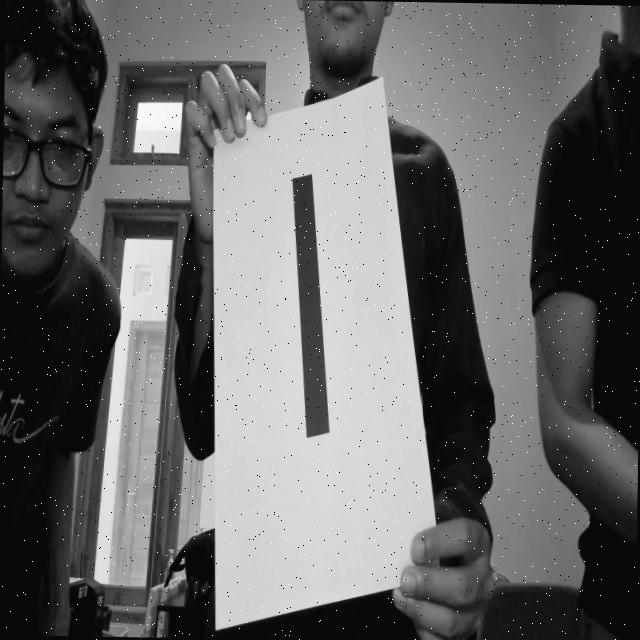i: (272, 167, 365, 470)
